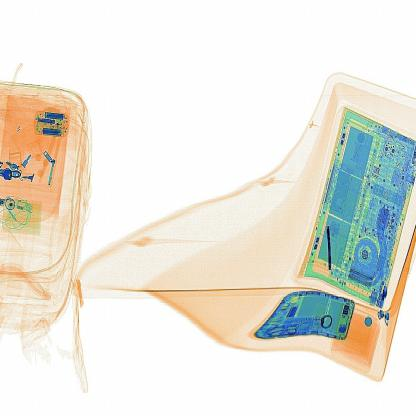knife: (320, 217, 348, 278)
